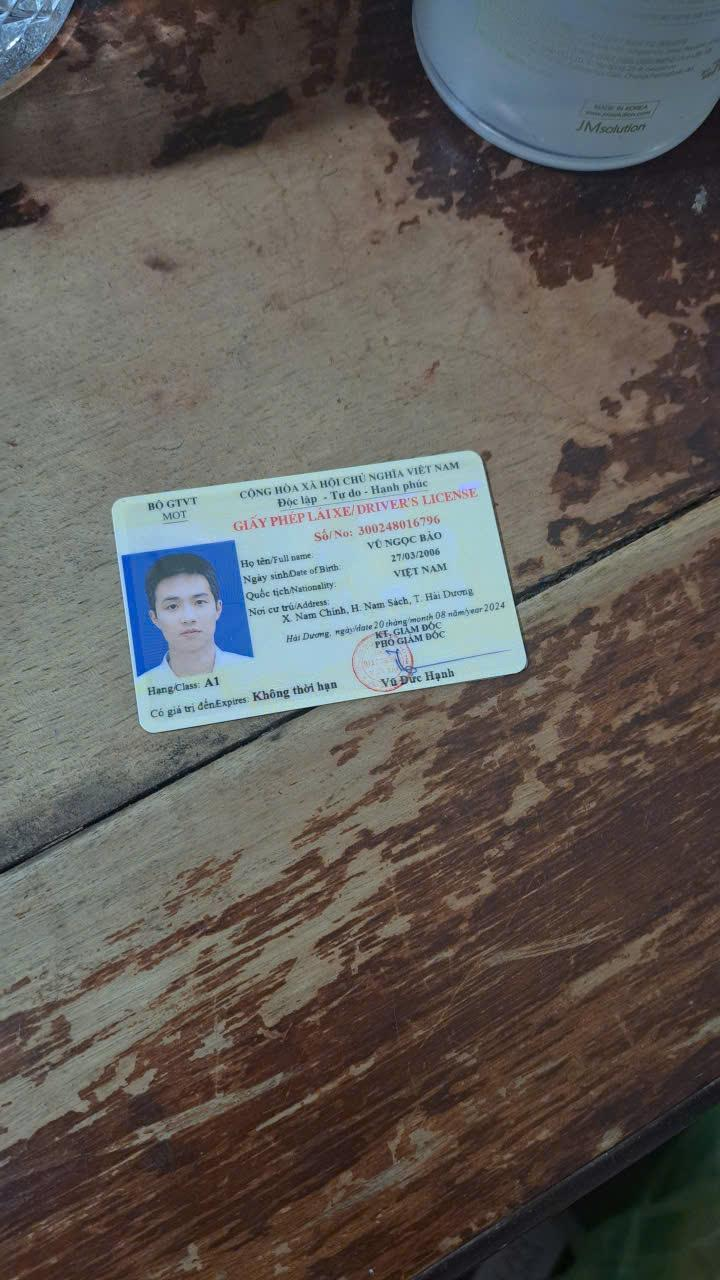gplx: (82, 441, 532, 742)
